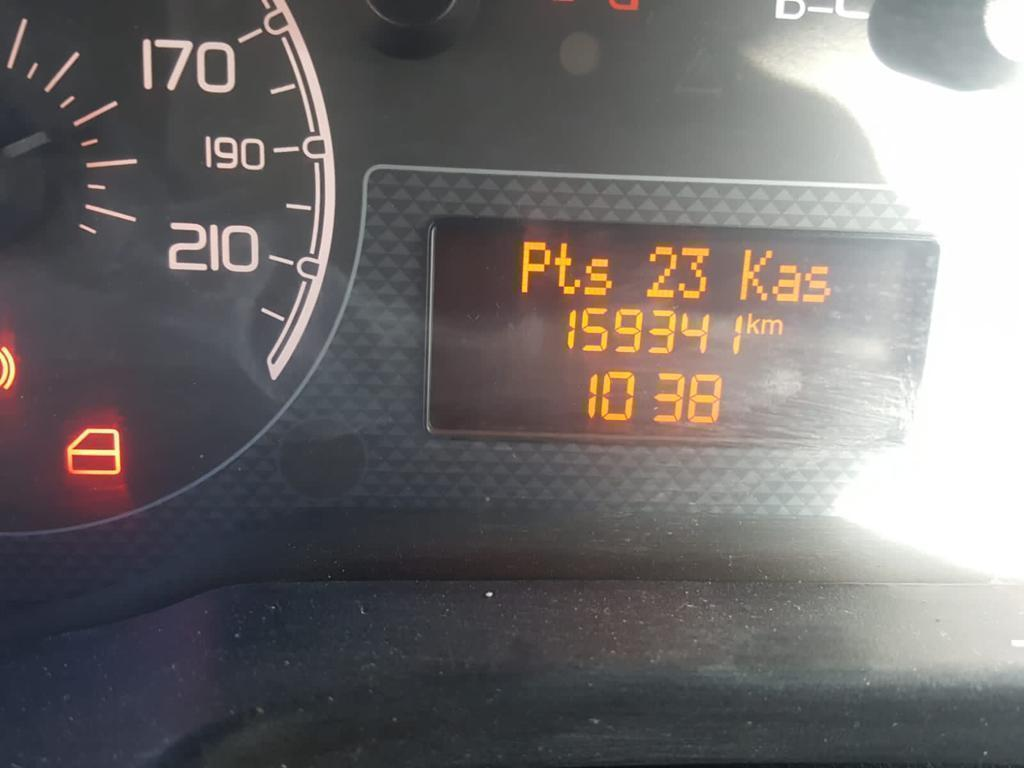0: (599, 370, 635, 421)
1: (586, 373, 598, 419), (731, 314, 743, 355), (565, 309, 577, 350)
2: (645, 245, 677, 298)
3: (651, 371, 685, 424), (677, 246, 710, 299), (646, 309, 677, 355)
4: (679, 312, 711, 354)
5: (580, 307, 609, 352)
8: (686, 372, 722, 424)
9: (613, 308, 644, 353)
X: (739, 248, 773, 301), (519, 240, 551, 293), (553, 241, 582, 295), (770, 264, 802, 303), (583, 257, 613, 296), (801, 265, 832, 302), (761, 318, 783, 336), (745, 312, 760, 335)
odometer: (421, 212, 946, 450)
